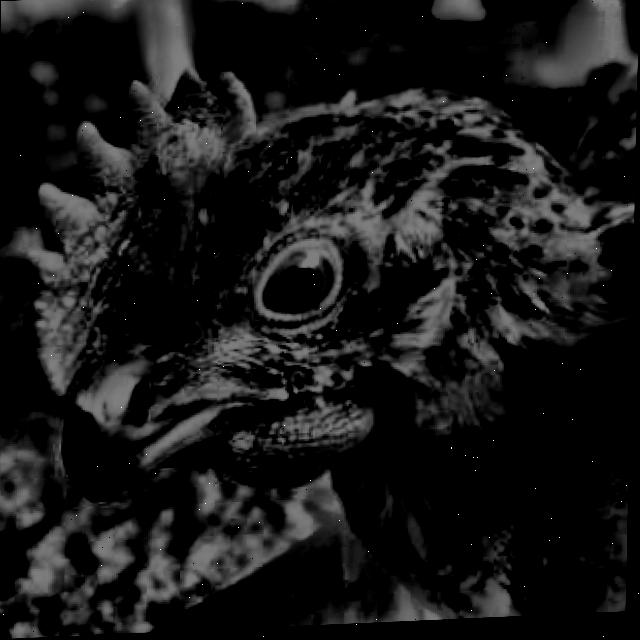Healthy: (239, 220, 367, 342)
